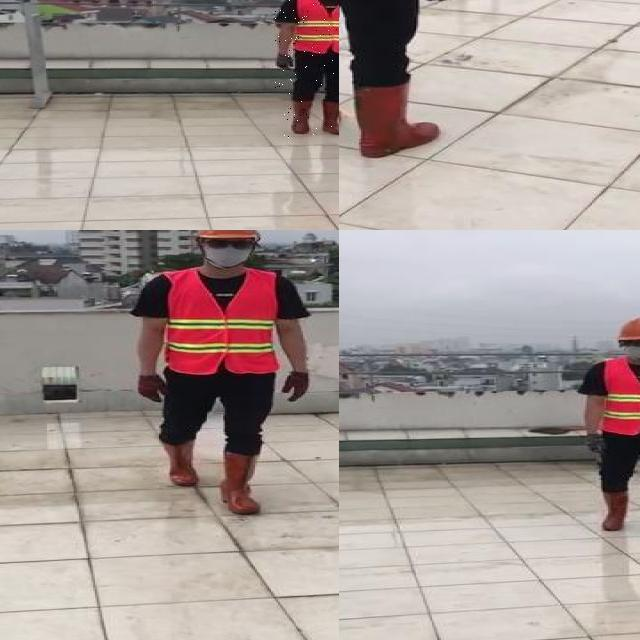boots: (345, 82, 443, 159), (221, 448, 262, 515), (156, 437, 198, 485), (599, 491, 629, 531), (288, 100, 312, 135), (320, 101, 339, 135)
face_mask: (204, 237, 254, 268), (616, 338, 640, 360)
glasses: (199, 236, 258, 252), (616, 337, 640, 348)
hand_glove: (278, 371, 310, 404), (136, 374, 170, 401), (583, 433, 605, 455)
head_helmet: (193, 230, 264, 240), (614, 316, 640, 340)
person: (130, 230, 317, 516), (339, 0, 480, 161), (573, 313, 640, 536), (274, 0, 339, 138)
vest: (163, 269, 278, 374), (602, 358, 640, 433), (291, 0, 339, 54)
